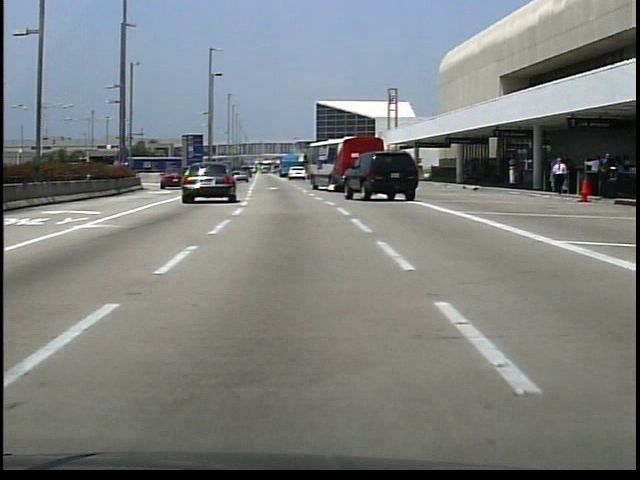person: (550, 157, 570, 199)
